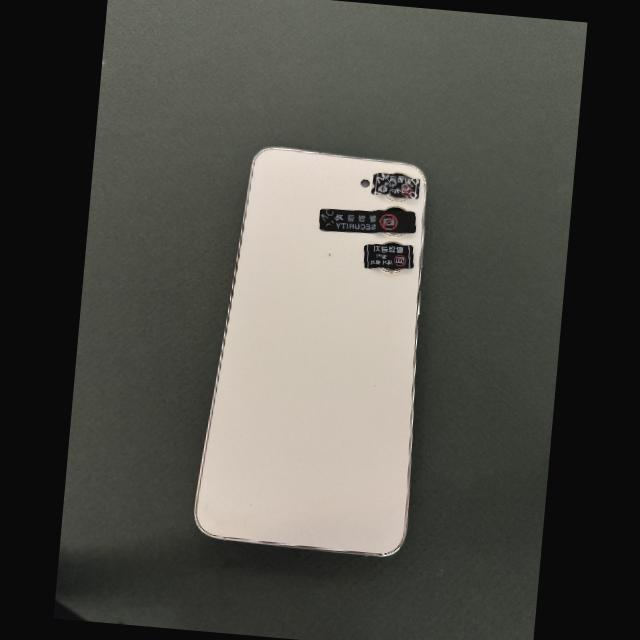lens: (386, 196, 406, 202), (383, 232, 405, 237), (382, 267, 402, 272)
phone: (194, 148, 426, 556)
sticker: (319, 208, 415, 233), (370, 173, 420, 199), (364, 243, 414, 268)
